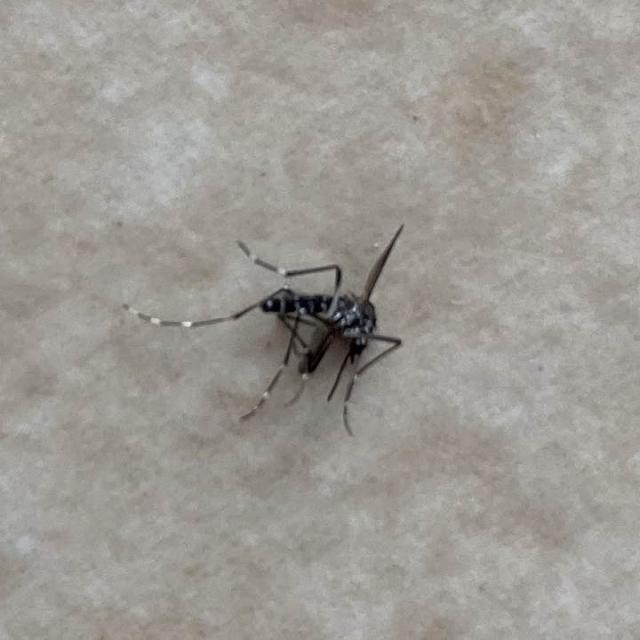albopictus: (125, 207, 426, 444)
